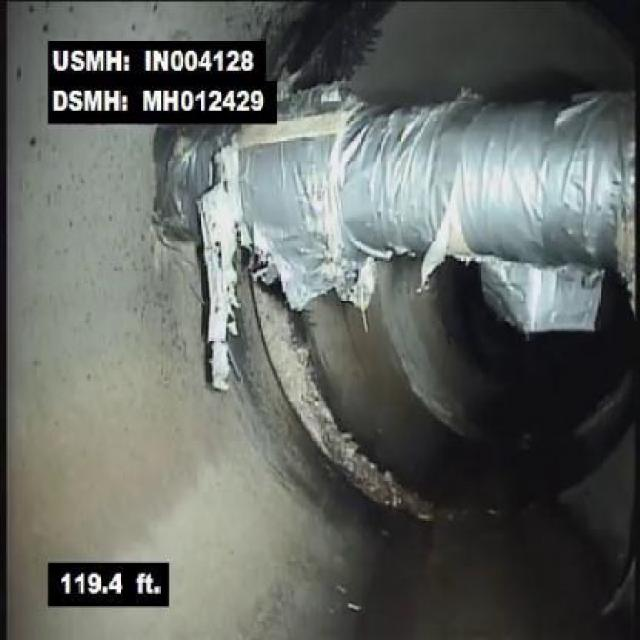Joint offset: (266, 332, 423, 531)
Utility intrusion: (129, 126, 637, 291), (283, 78, 639, 277)
